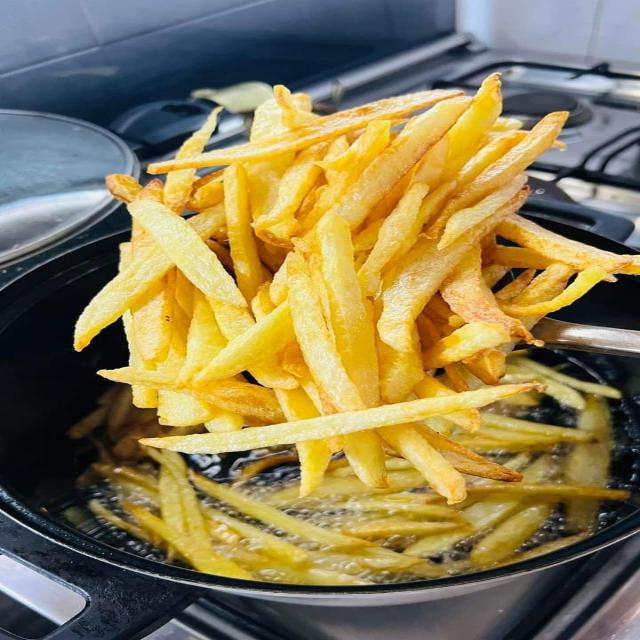potato fries: (70, 74, 639, 585)
